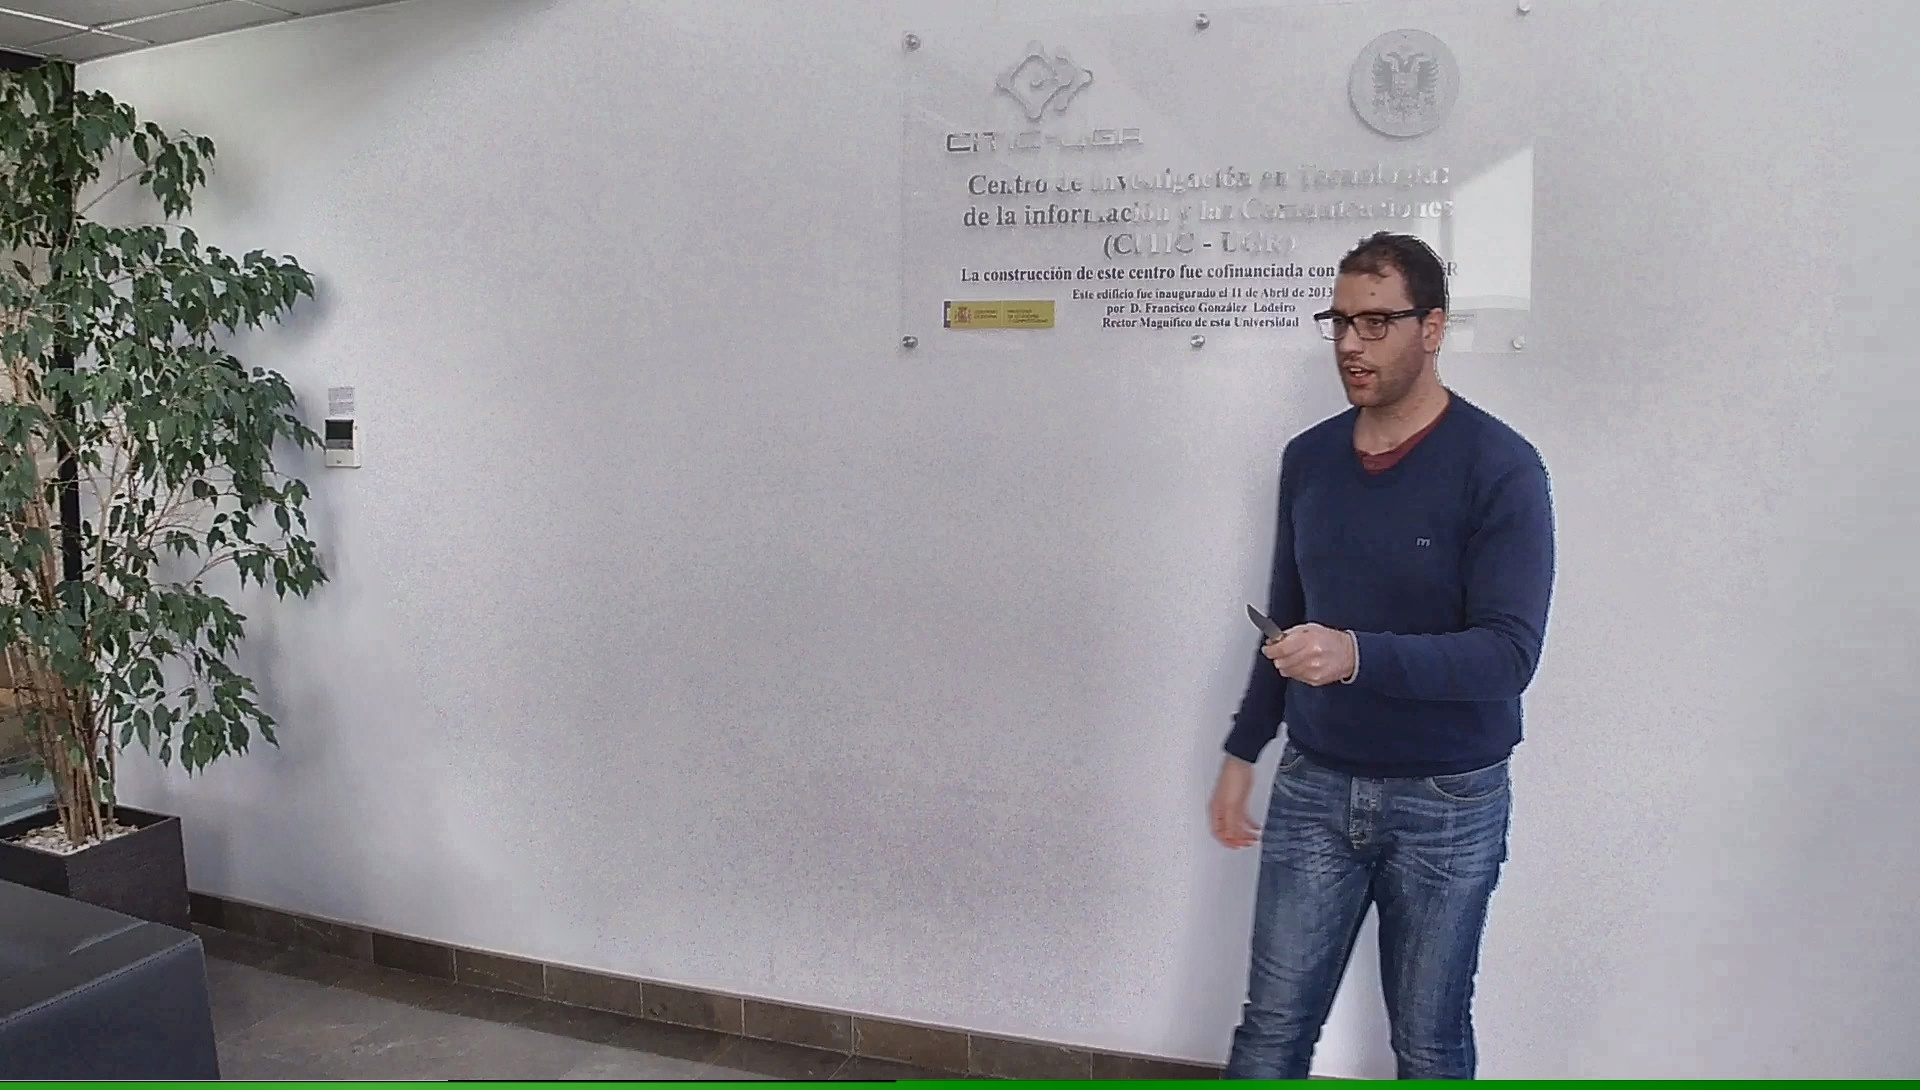knife: (1240, 594, 1308, 670)
